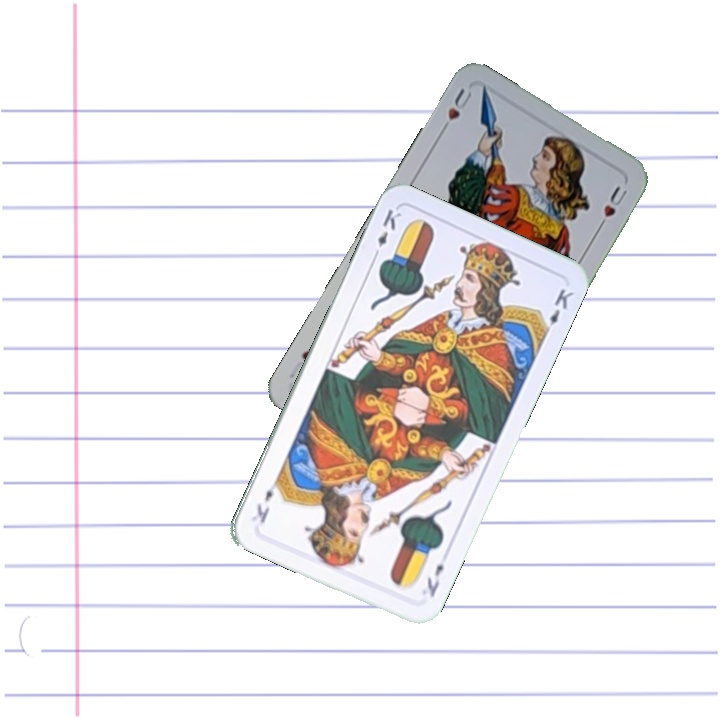EK: (369, 205, 404, 262), (423, 559, 447, 600)
HU: (436, 84, 475, 137)
